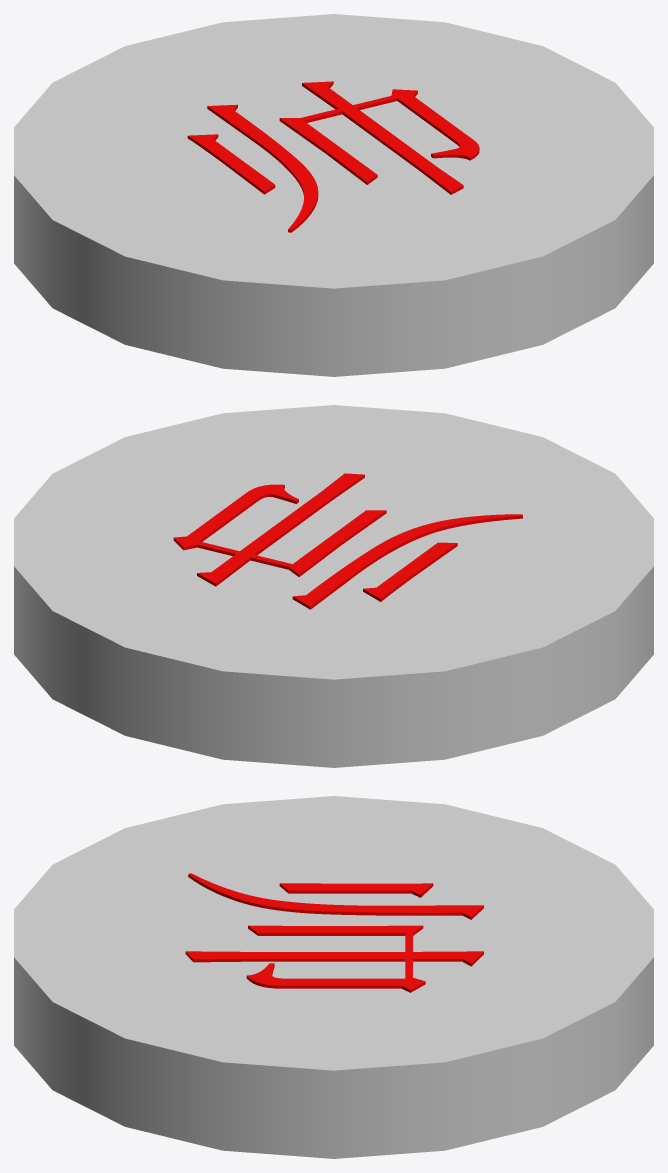
The picture shows the model from 3 angles, top to bottom: view 1: azimuth 30°, elevation 25°; view 2: azimuth 150°, elevation 25°; view 3: azimuth 270°, elevation 25°; orthographic projection.
Parts seen in each view (by area): view 1: Cylinder001, Text001; view 2: Cylinder001, Text001; view 3: Cylinder001, Text001.
Part boxes in pixels (x1,y1,x2,y2): Cylinder001: [14, 14, 653, 376]; Text001: [187, 81, 479, 232]; Cylinder001: [14, 405, 653, 767]; Text001: [173, 473, 522, 609]; Cylinder001: [14, 796, 653, 1158]; Text001: [185, 873, 483, 992].
Bounding box in the file's own units: 20 × 19.7 × 3.1.
